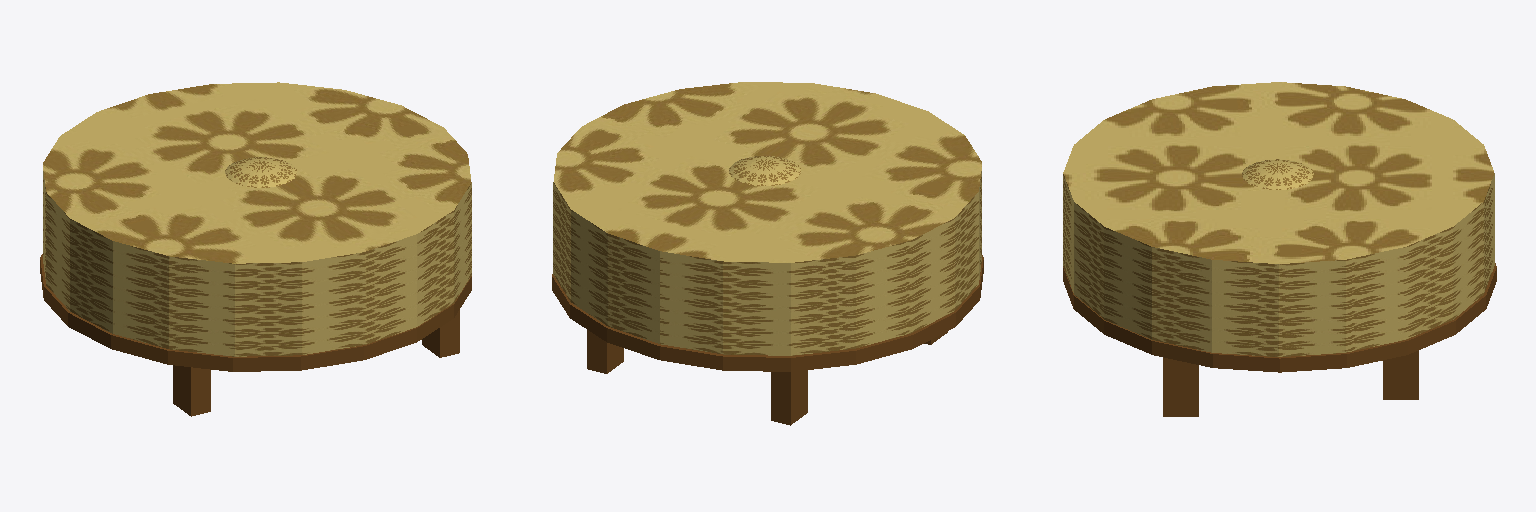
The picture shows the model from 3 angles: view 1: azimuth 30°, elevation 25°; view 2: azimuth 150°, elevation 25°; view 3: azimuth 270°, elevation 25°; orthographic projection.
Visible parts, largest first — view 1: pCylinder1, pCylinder2, pSphere1, pasted__pasted__pasted__pCube1 pasted__pasted__group pasted__gro, pCube1; view 2: pCylinder1, pCylinder2, pasted__pasted__pCube1 pasted__group group1, pSphere1, pasted__pCube1 group; view 3: pCylinder1, pCylinder2, pCube1, pSphere1, pasted__pCube1 group.
Part boxes in pixels (left/top/right/bottom): pCylinder1: left=43, top=82, right=471, bottom=356; pCylinder2: left=40, top=254, right=471, bottom=371; pSphere1: left=225, top=157, right=296, bottom=187; pasted__pasted__pasted__pCube1 pasted__pasted__group pasted__gro: left=173, top=365, right=210, bottom=416; pCube1: left=422, top=310, right=459, bottom=357; pCylinder1: left=553, top=82, right=981, bottom=355; pCylinder2: left=552, top=255, right=983, bottom=371; pasted__pasted__pCube1 pasted__group group1: left=771, top=370, right=807, bottom=425; pSphere1: left=729, top=156, right=800, bottom=185; pasted__pCube1 group: left=587, top=330, right=623, bottom=373; pCylinder1: left=1063, top=82, right=1494, bottom=356; pCylinder2: left=1063, top=263, right=1496, bottom=372; pCube1: left=1163, top=357, right=1198, bottom=416; pSphere1: left=1242, top=159, right=1313, bottom=189; pasted__pCube1 group: left=1383, top=350, right=1418, bottom=399.
Size of the model in its own units: 2.01 by 0.9237 by 2.01.
Materials: 4 (2 with a texture image).